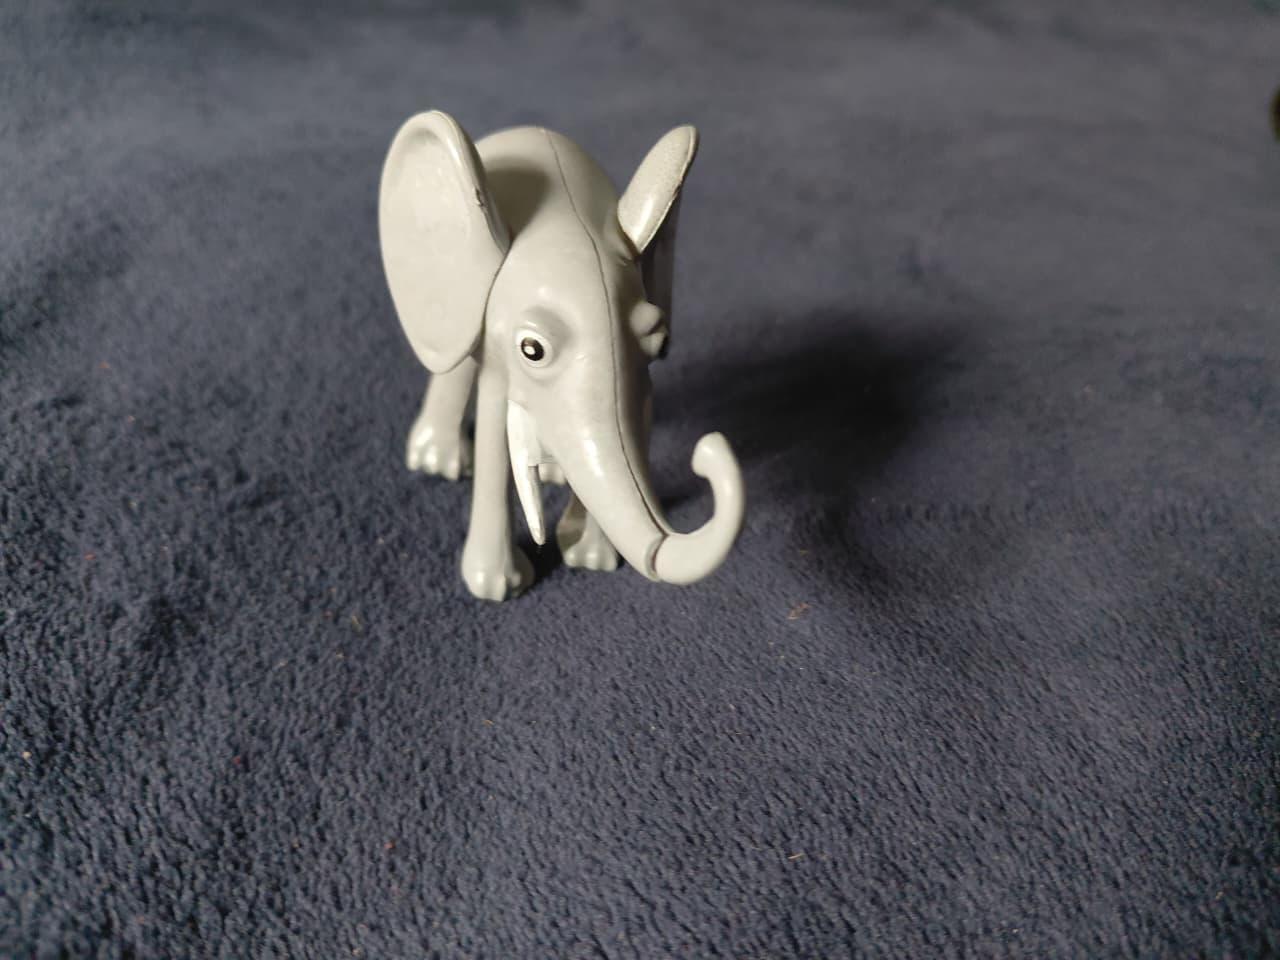elephant: (352, 89, 766, 604)
